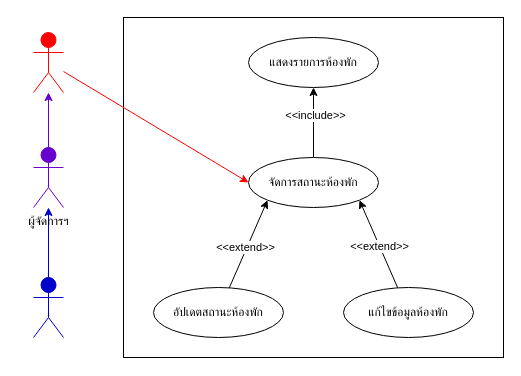
Image size: 521x376. Some labels were removed from this diagram. Here are the shapes that lost their labels. From the top down, the centre of each, then its label:
the point at 48,62: พนักงานฯ
the point at 48,307: เจ้าของบริษัทฯ
